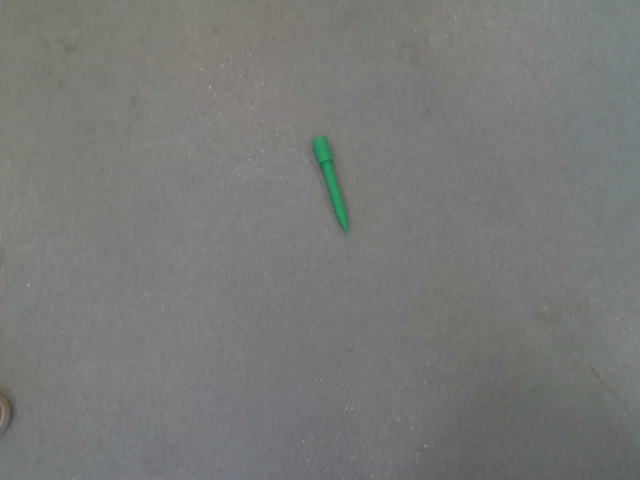Probe: (307, 130, 356, 241)
